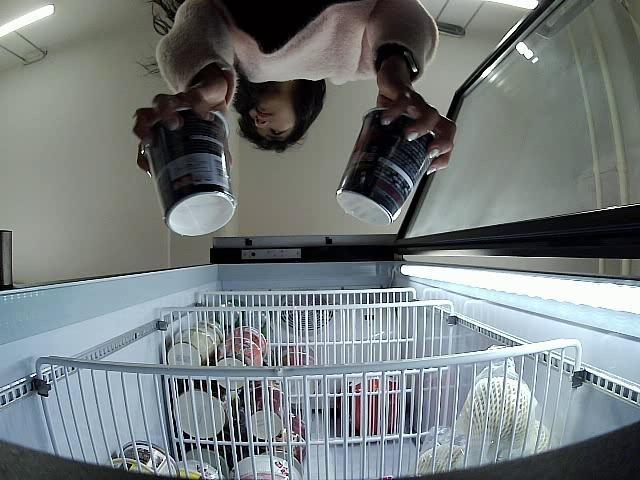08_buldak_S: (143, 108, 238, 238), (335, 103, 429, 228)
